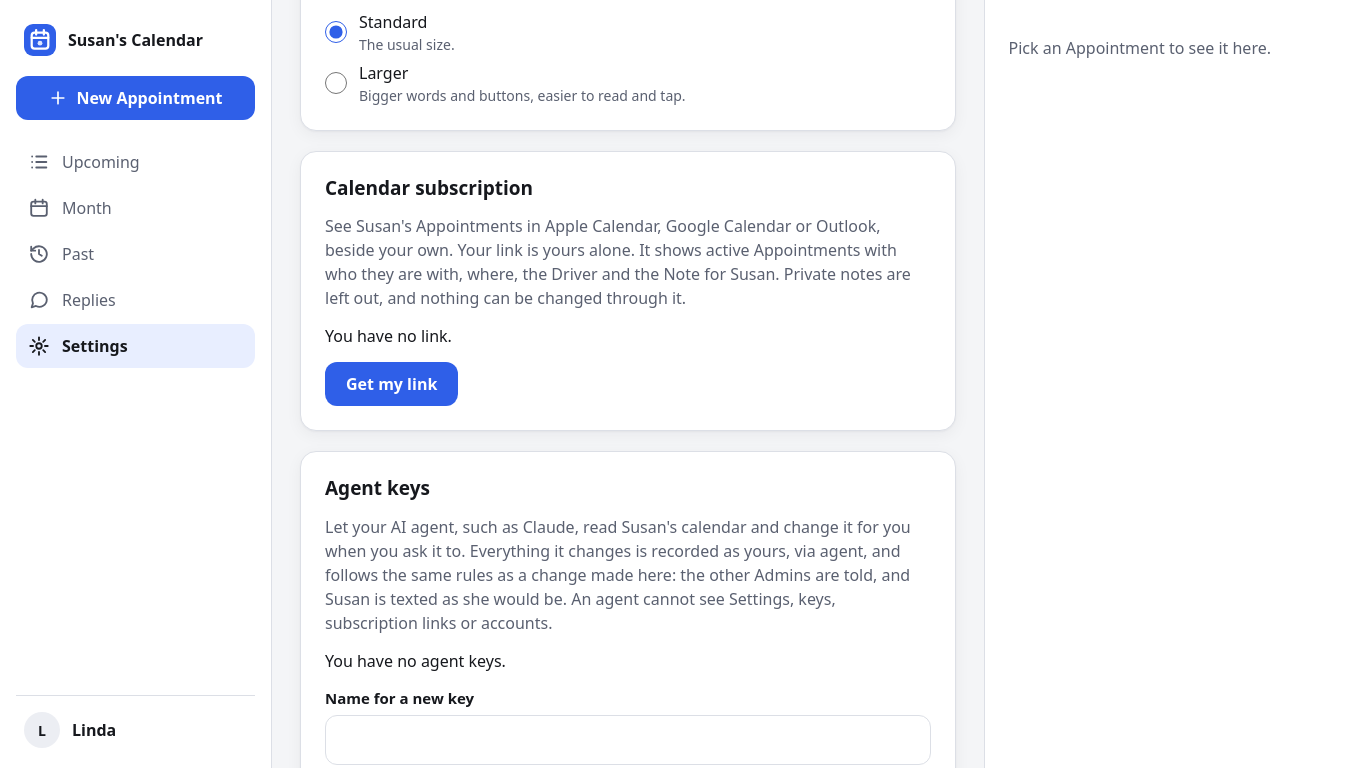
Scenario: the Calendar subscription section of Settings › works the same at a desktop width
(page scrolled)
Click the button "Get my link" at (392, 384), box [325,362,458,406]
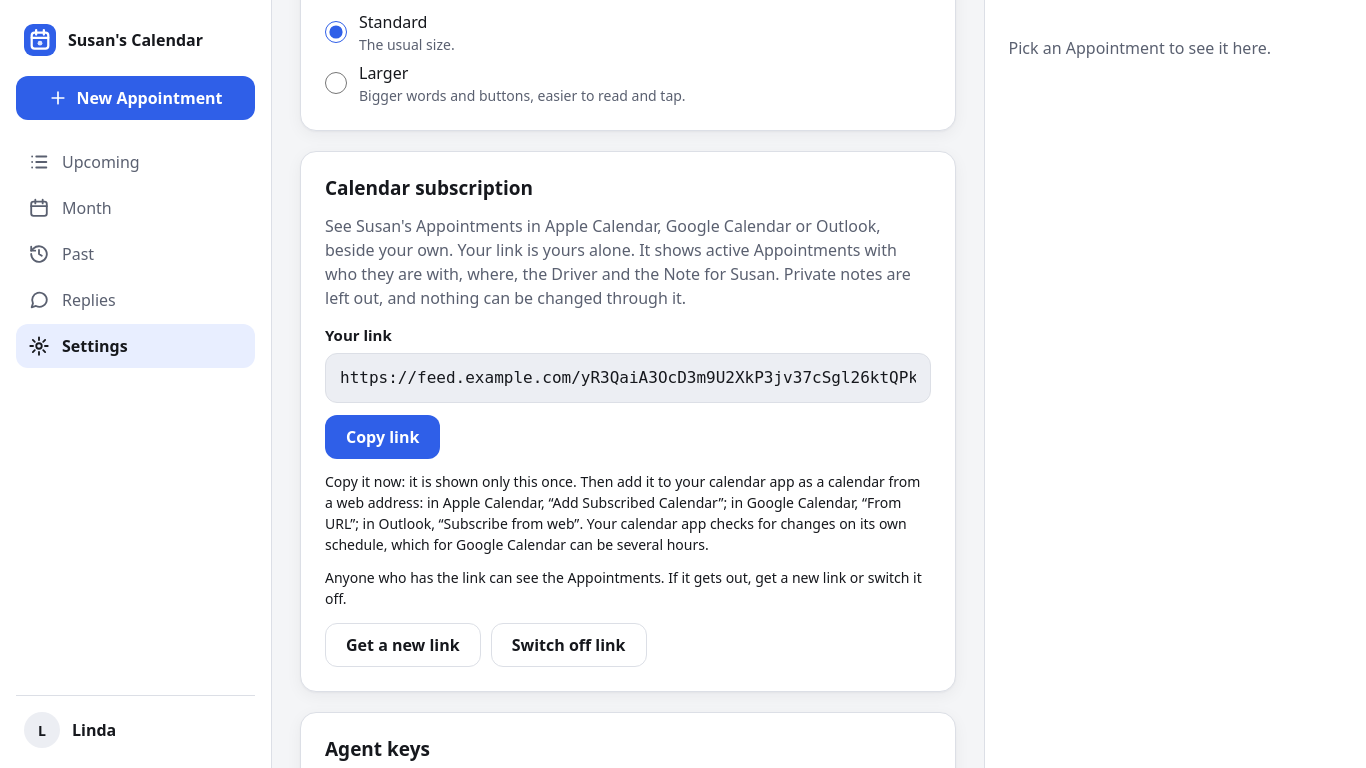
expect the field labelled "Your link" is shown: met, box [325,353,930,403]
